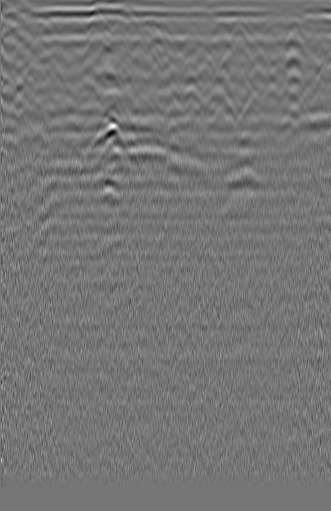가스: (91, 172, 123, 201)
상수: (5, 24, 43, 63)
오수: (278, 20, 313, 55)
우수: (141, 27, 169, 59)
